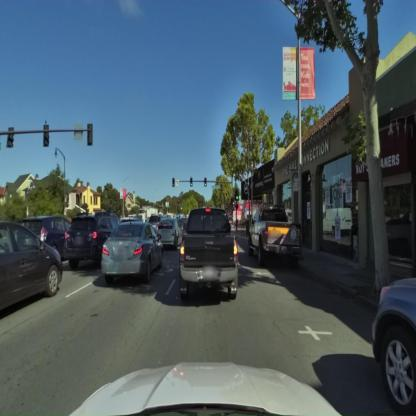car: (39, 362, 357, 415), (0, 219, 64, 332), (100, 220, 163, 284), (63, 213, 121, 270), (21, 217, 70, 257), (156, 218, 181, 250)
traffic light: (6, 127, 16, 148), (43, 124, 51, 147), (86, 124, 93, 146), (203, 178, 207, 187), (191, 176, 194, 186)
truck: (179, 207, 238, 302), (248, 206, 302, 267)
